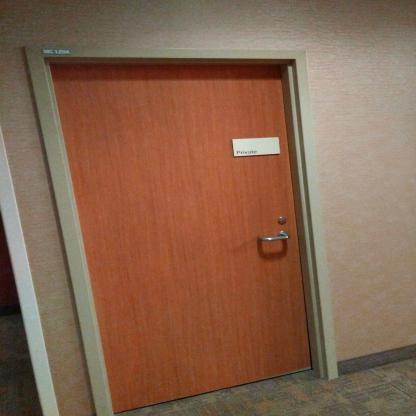door: (46, 60, 320, 385)
lever: (262, 232, 294, 245)
